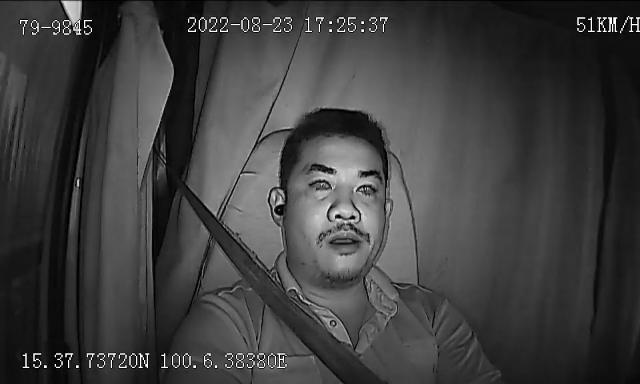SafeDriving: (351, 174, 384, 203), (304, 170, 338, 196)
Seatbelt: (187, 191, 388, 384)
